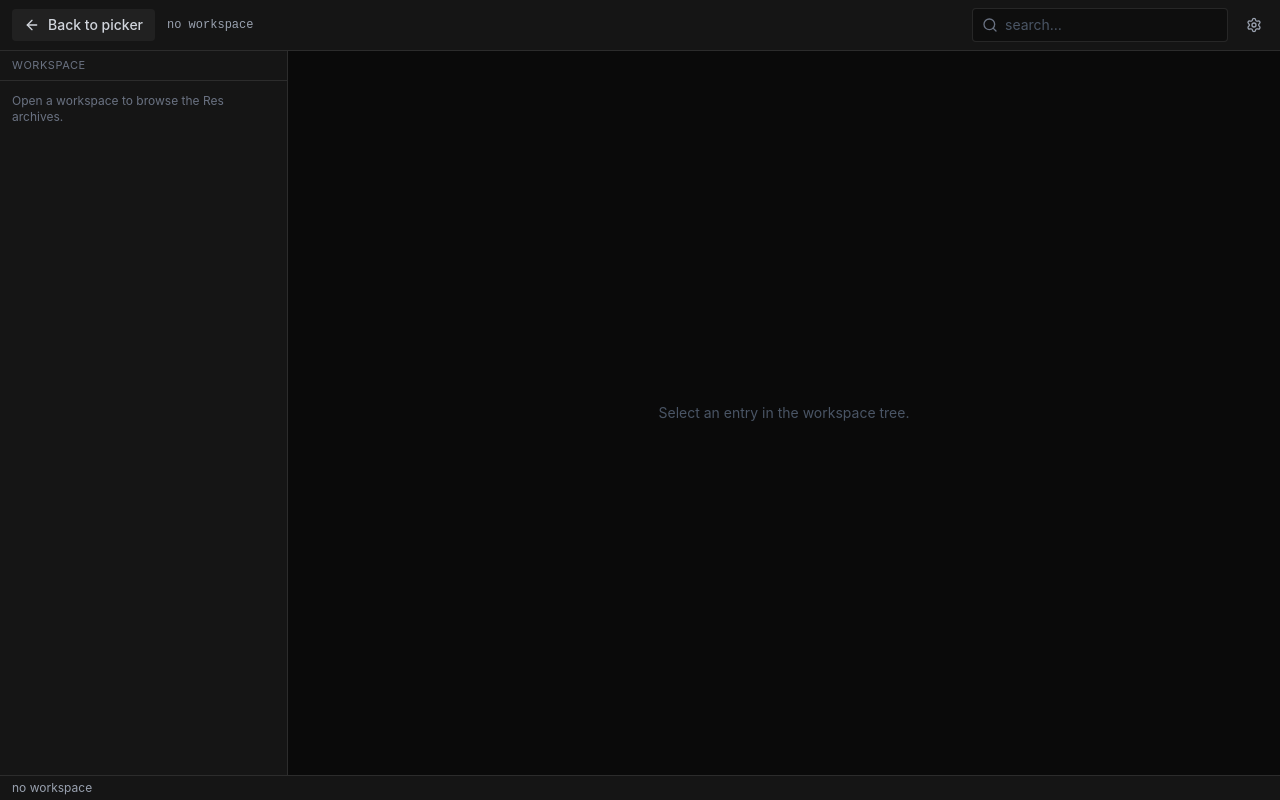
App shell › settings dialog opens, toggles the backup mirror, and closes
Click the button named "settings": click(1254, 25) [1240, 11, 1268, 39]
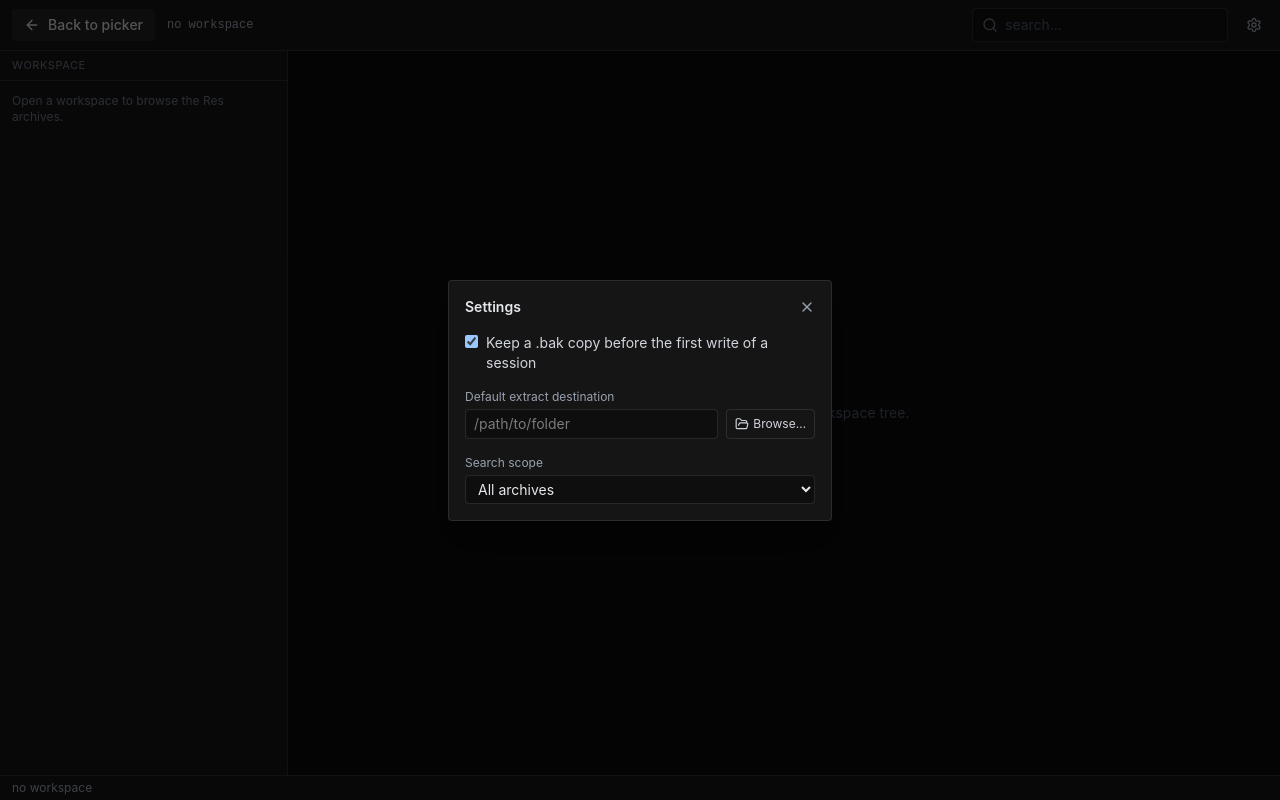
expect the dialog "Settings" is shown: met
expect the checkbox labelled "Keep a .bak copy before the first write of a session" is checked: met
Click the checkbox labelled "Keep a .bak copy before the first write of a session": click(472, 341) [465, 334, 478, 348]
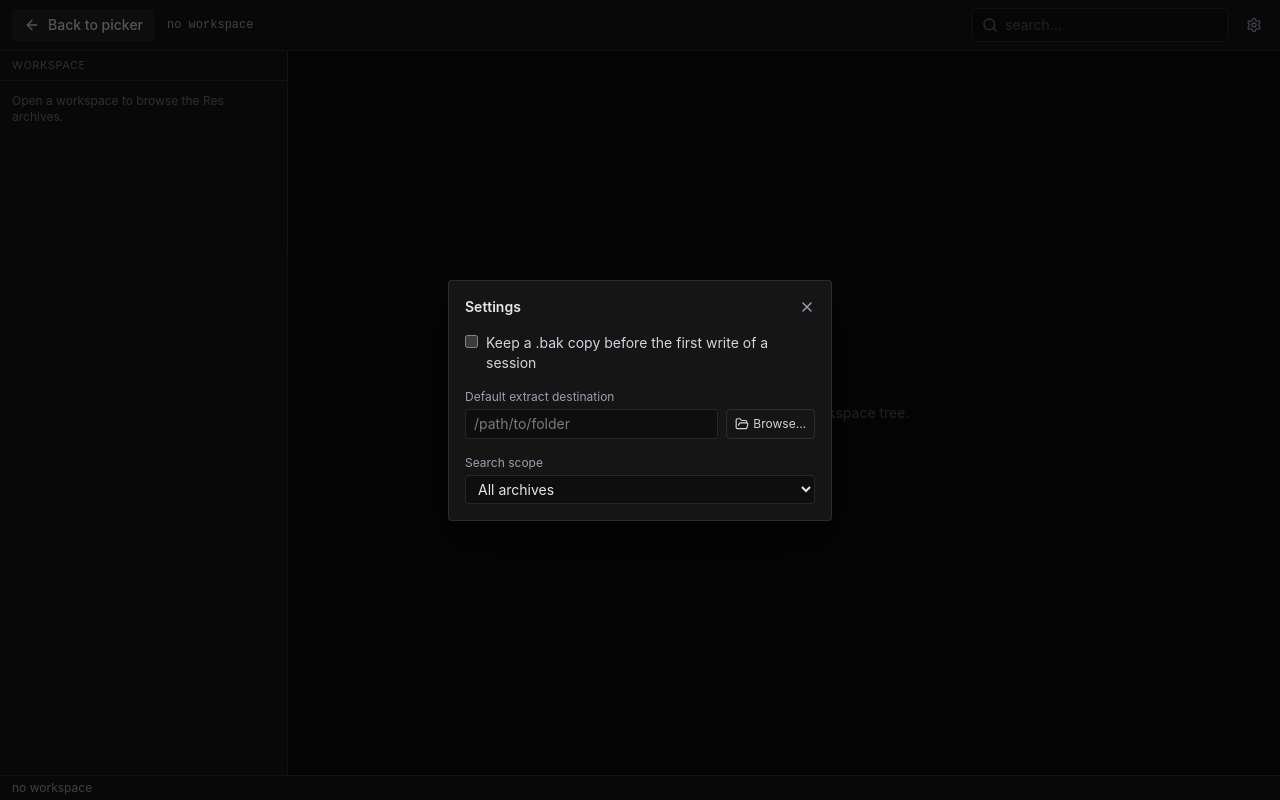
Click the button named "close settings": click(807, 306) [799, 298, 815, 314]
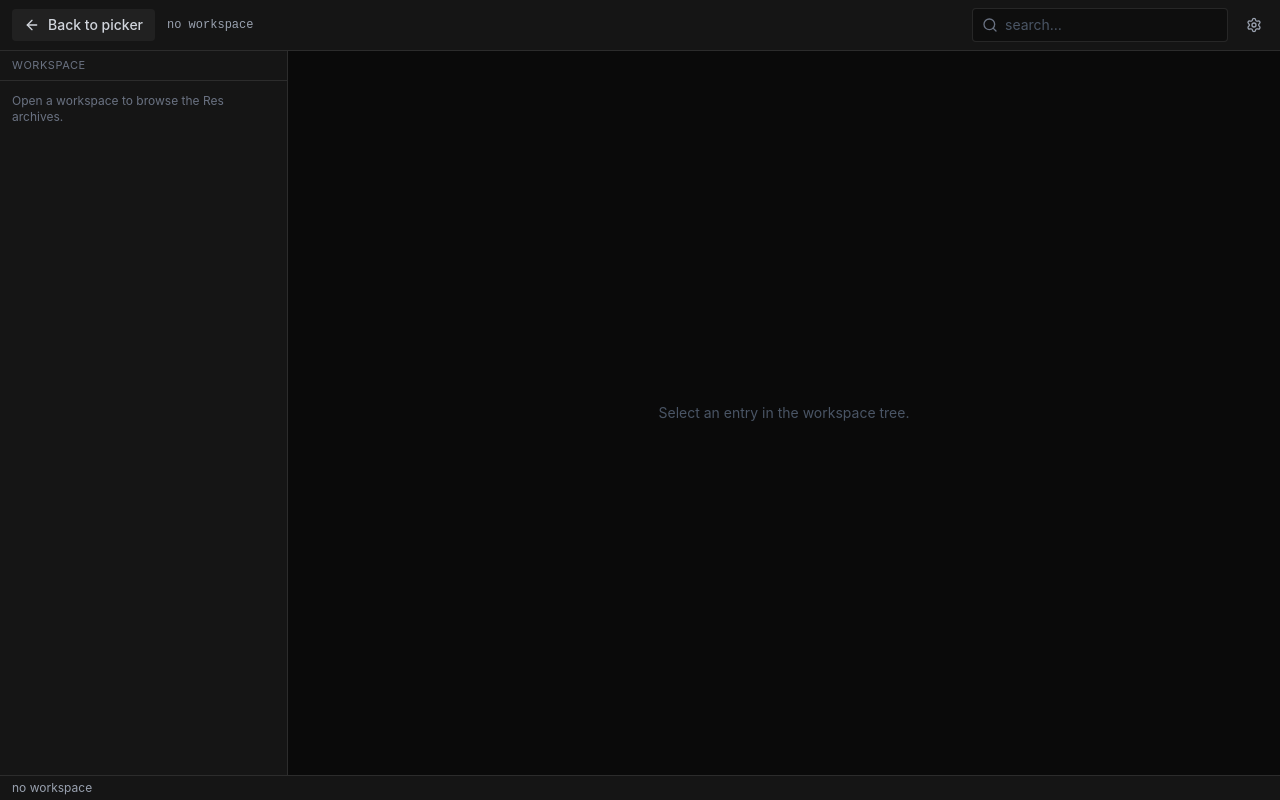
expect the dialog is gone: met
